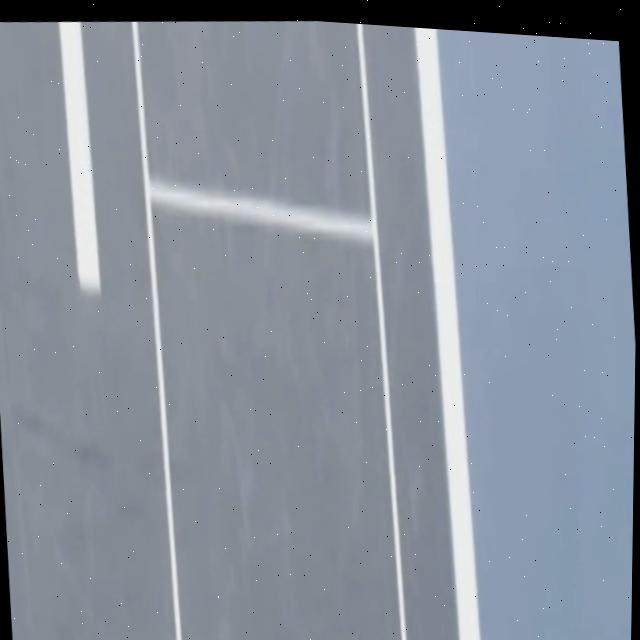center: (59, 21, 100, 293)
left: (415, 28, 480, 640)
